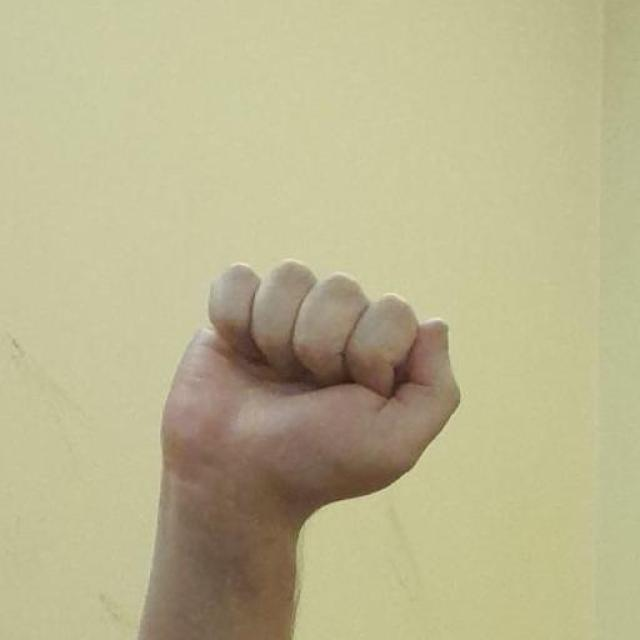hand: (156, 256, 462, 532)
